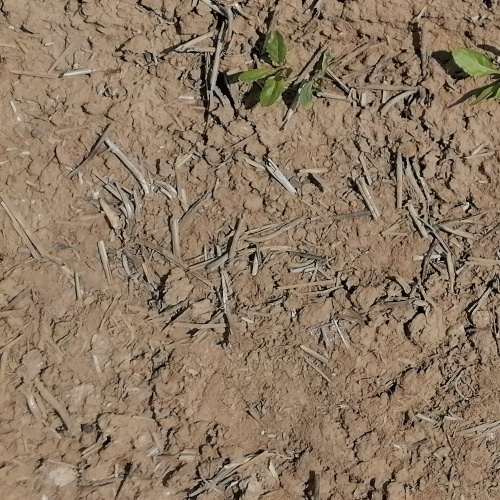beet: (239, 32, 290, 104), (453, 44, 500, 104)
